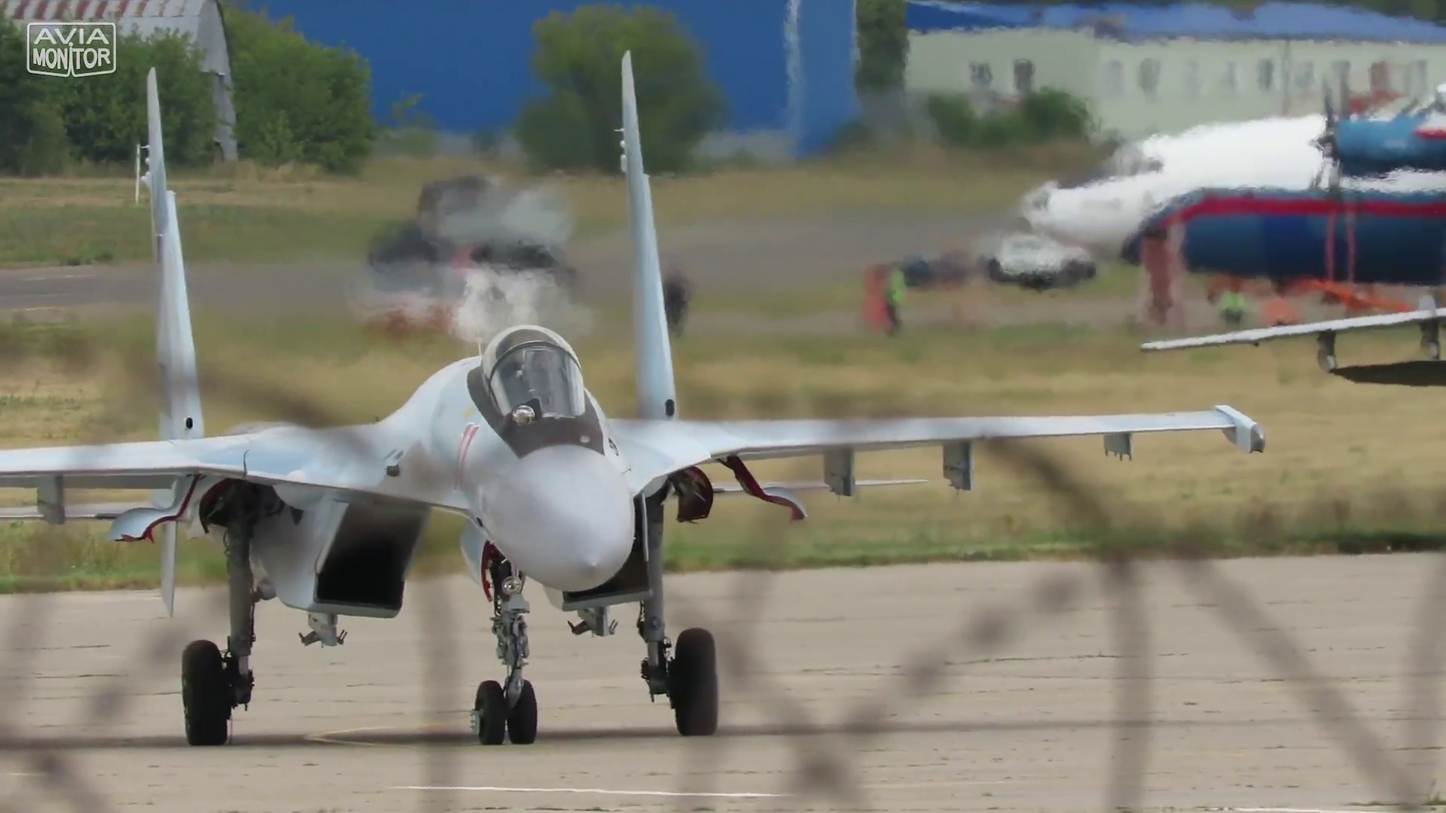Su35: (0, 53, 1268, 748)
